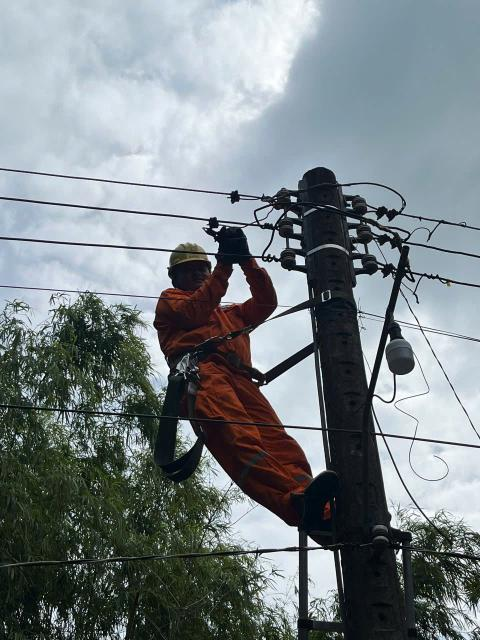gloves: (206, 218, 258, 271)
harness: (153, 335, 261, 394)
helmet: (157, 237, 218, 282)
shoes: (292, 472, 351, 517)
